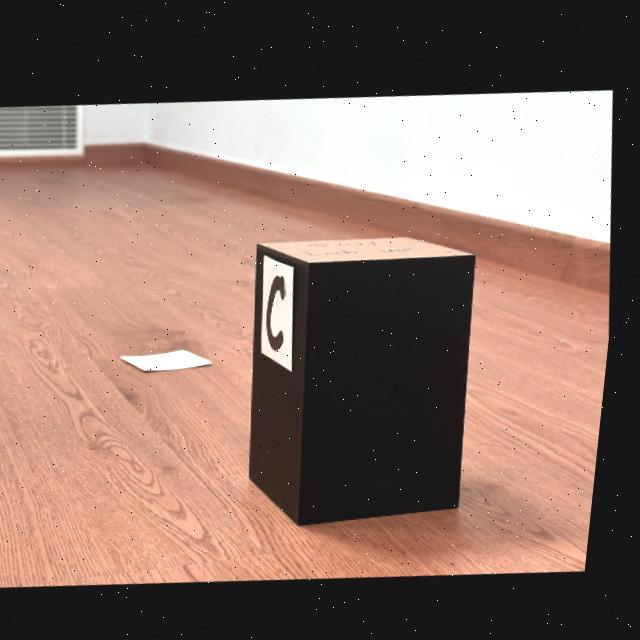C: (273, 272, 291, 346)
